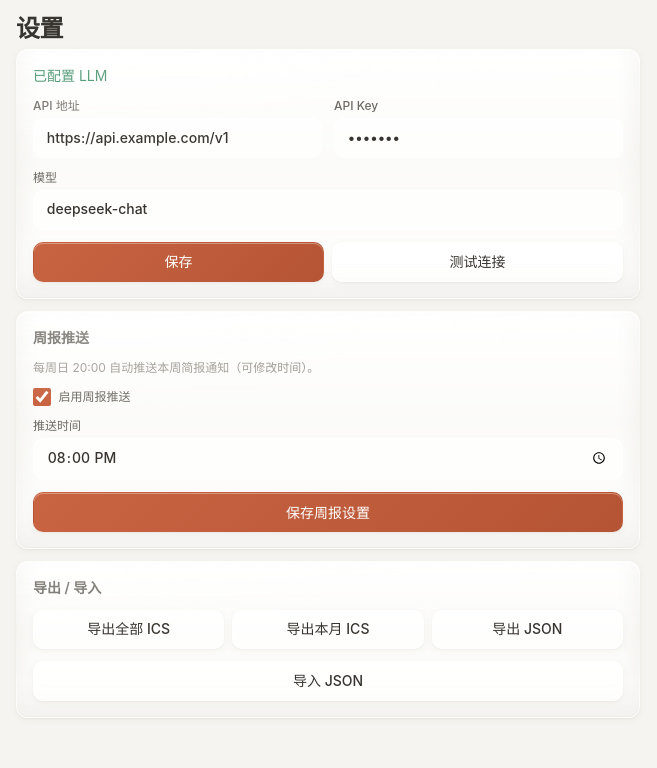
it: SettingsView › 三项全空时保存被拦截且不覆盖存储
Clear the field labelled "API 地址" at {"x": 178, "y": 138}, box [33,118,322,158]
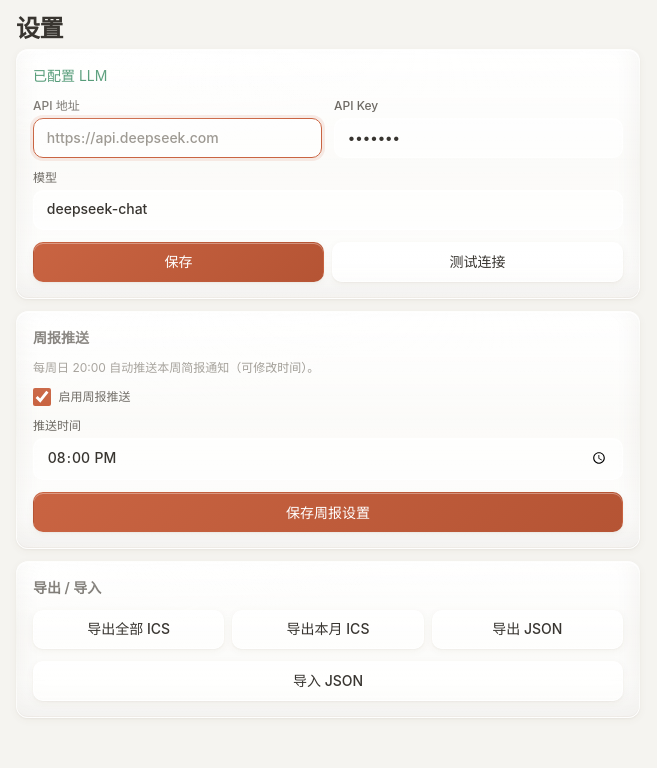
Clear the password field labelled "API Key" at {"x": 478, "y": 138}, box [334,118,623,158]
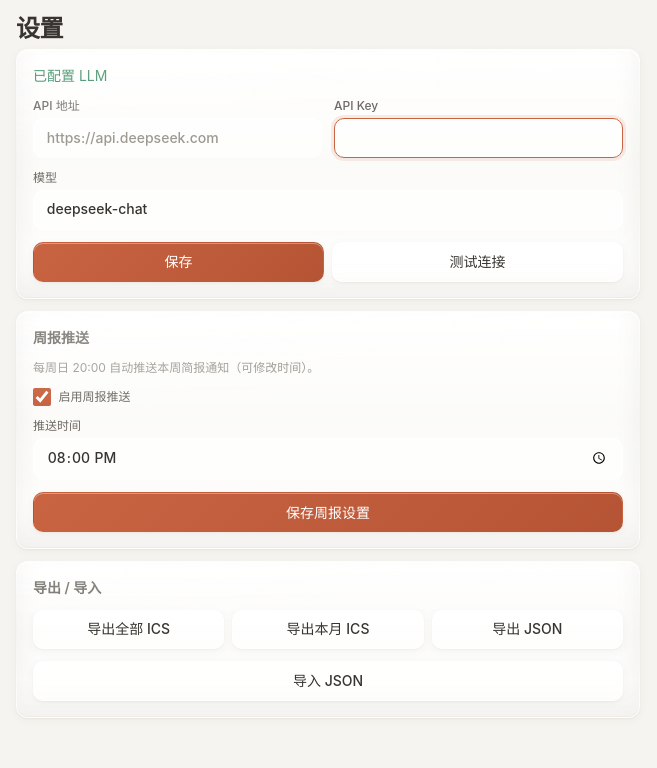
Clear the field labelled "模型" at {"x": 328, "y": 210}, box [33,190,623,230]
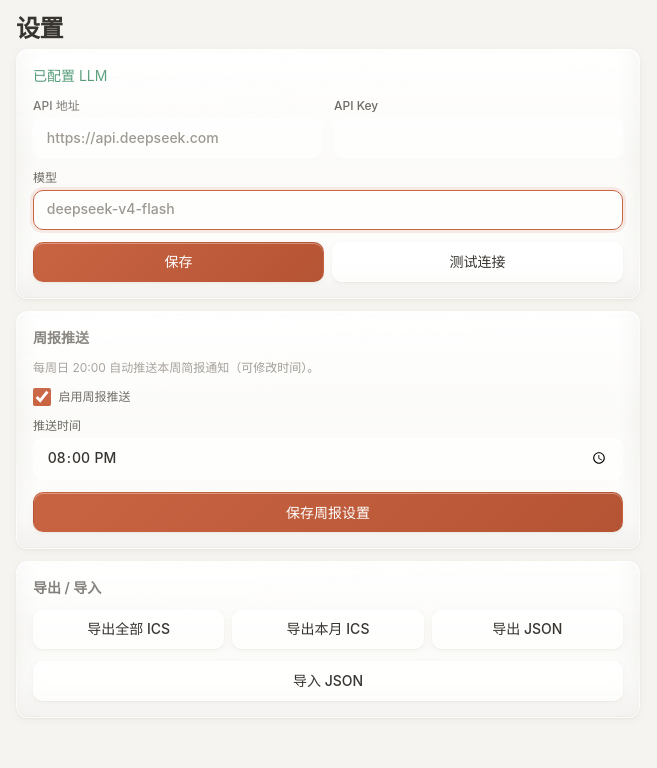
Click the button "保存" at {"x": 178, "y": 262}, box [33,242,324,282]
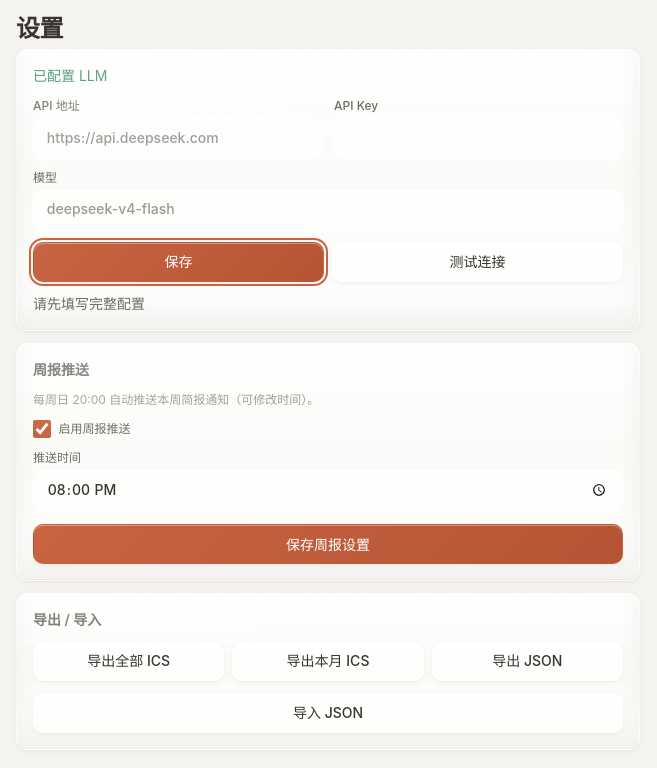
Result: the text "请先填写完整配置" is shown at [33,295,145,312]
